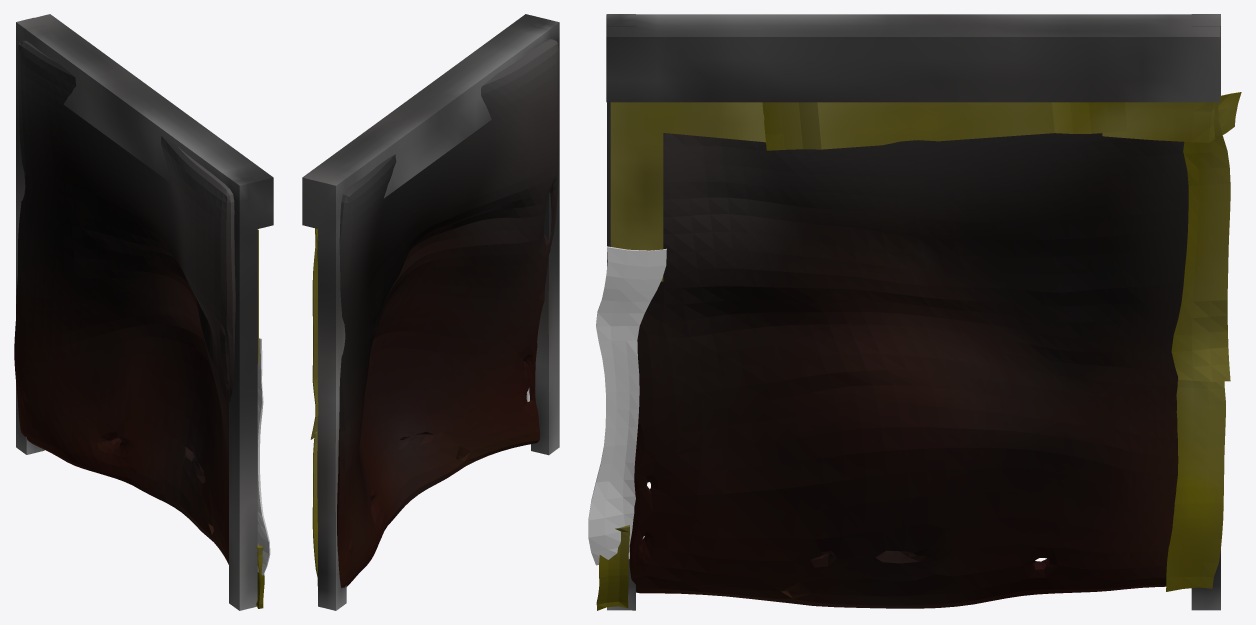
File: Porte bombée scotch.fbx
3 renders of one model, left to right at view 1: azimuth 30°, elevation 25°; view 2: azimuth 150°, elevation 25°; view 3: azimuth 270°, elevation 25°, orthographic. The views are drawn at different scales.
Visible parts, largest first — view 1: Porte 5, Porte 4, Porte 3, Porte 2, Boîte 5, Boîte 6; view 2: Porte 5, Porte 4, Porte 2, Porte 3, Boîte 7, Boîte 4; view 3: Porte 5, Porte 4, Boîte 8, Boîte 5, Boîte 7, Boîte 4, Boîte 14, Boîte 9, Boîte 10, Boîte 6, Porte 3, Porte 2.
Boxes of the visible parts, <box> form: Porte 5: <box>14,40,235,564</box>; Porte 4: <box>16,14,273,233</box>; Porte 3: <box>229,173,257,610</box>; Porte 2: <box>16,17,44,454</box>; Boîte 5: <box>257,338,270,575</box>; Boîte 6: <box>256,544,264,608</box>; Porte 5: <box>337,39,558,588</box>; Porte 4: <box>302,14,559,232</box>; Porte 2: <box>317,174,346,610</box>; Porte 3: <box>531,18,559,455</box>; Boîte 7: <box>310,228,318,439</box>; Boîte 4: <box>312,431,317,585</box>; Porte 5: <box>629,133,1188,608</box>; Porte 4: <box>606,14,1220,102</box>; Boîte 8: <box>762,102,1127,150</box>; Boîte 5: <box>588,246,666,565</box>; Boîte 7: <box>1171,102,1230,381</box>; Boîte 4: <box>1166,377,1225,591</box>; Boîte 14: <box>610,102,663,281</box>; Boîte 9: <box>1102,92,1241,142</box>; Boîte 10: <box>645,102,765,142</box>; Boîte 6: <box>596,525,629,610</box>; Porte 3: <box>607,14,635,610</box>; Porte 2: <box>1191,14,1220,610</box>.
Bounding box in the file's own units: 0.9117 × 3.58 × 3.63.
